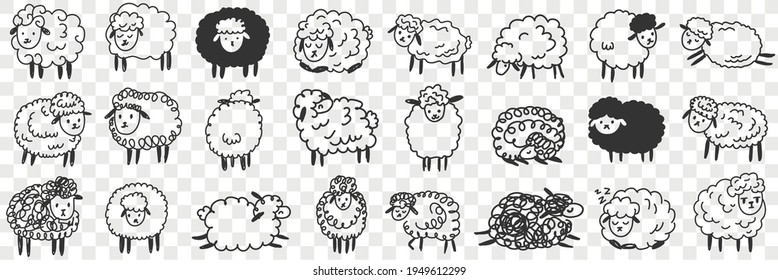animal: (7, 1, 92, 82), (475, 194, 585, 256), (291, 89, 384, 162), (692, 175, 769, 253), (687, 94, 770, 164), (592, 184, 682, 248), (107, 88, 183, 163), (8, 178, 82, 255), (400, 84, 466, 170), (191, 11, 273, 80), (674, 19, 776, 74), (586, 93, 671, 159), (15, 93, 91, 164), (488, 20, 572, 82), (199, 196, 292, 252), (391, 11, 475, 71), (385, 187, 465, 249), (485, 102, 564, 164), (107, 4, 181, 70), (207, 86, 269, 161), (591, 14, 666, 75), (299, 8, 369, 72), (107, 186, 167, 254), (317, 176, 367, 254)
